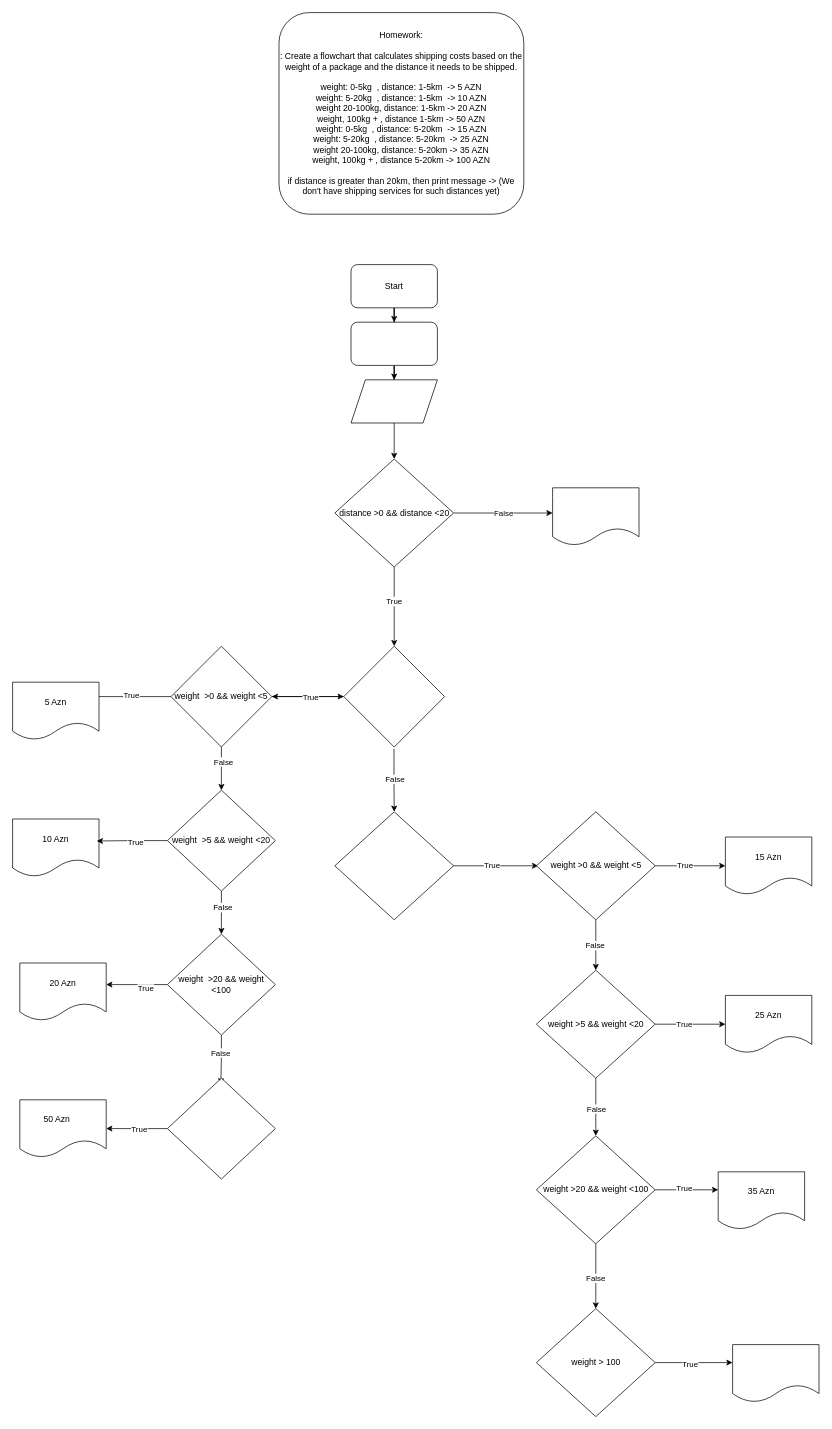
This 832x1429 diagram has some shape labels left out. Each missing label, with the centre of its shape:
100 Azn: point 775,1373
distance < 5: point 394,696
distance >5 && distance <20: point 394,865
float weight, distance;: point 393,343
We do not have shipping services for such distances yet: point 595,516
weight = 3.3; distance = 2.9;: point 393,401
weight >100: point 221,1128
